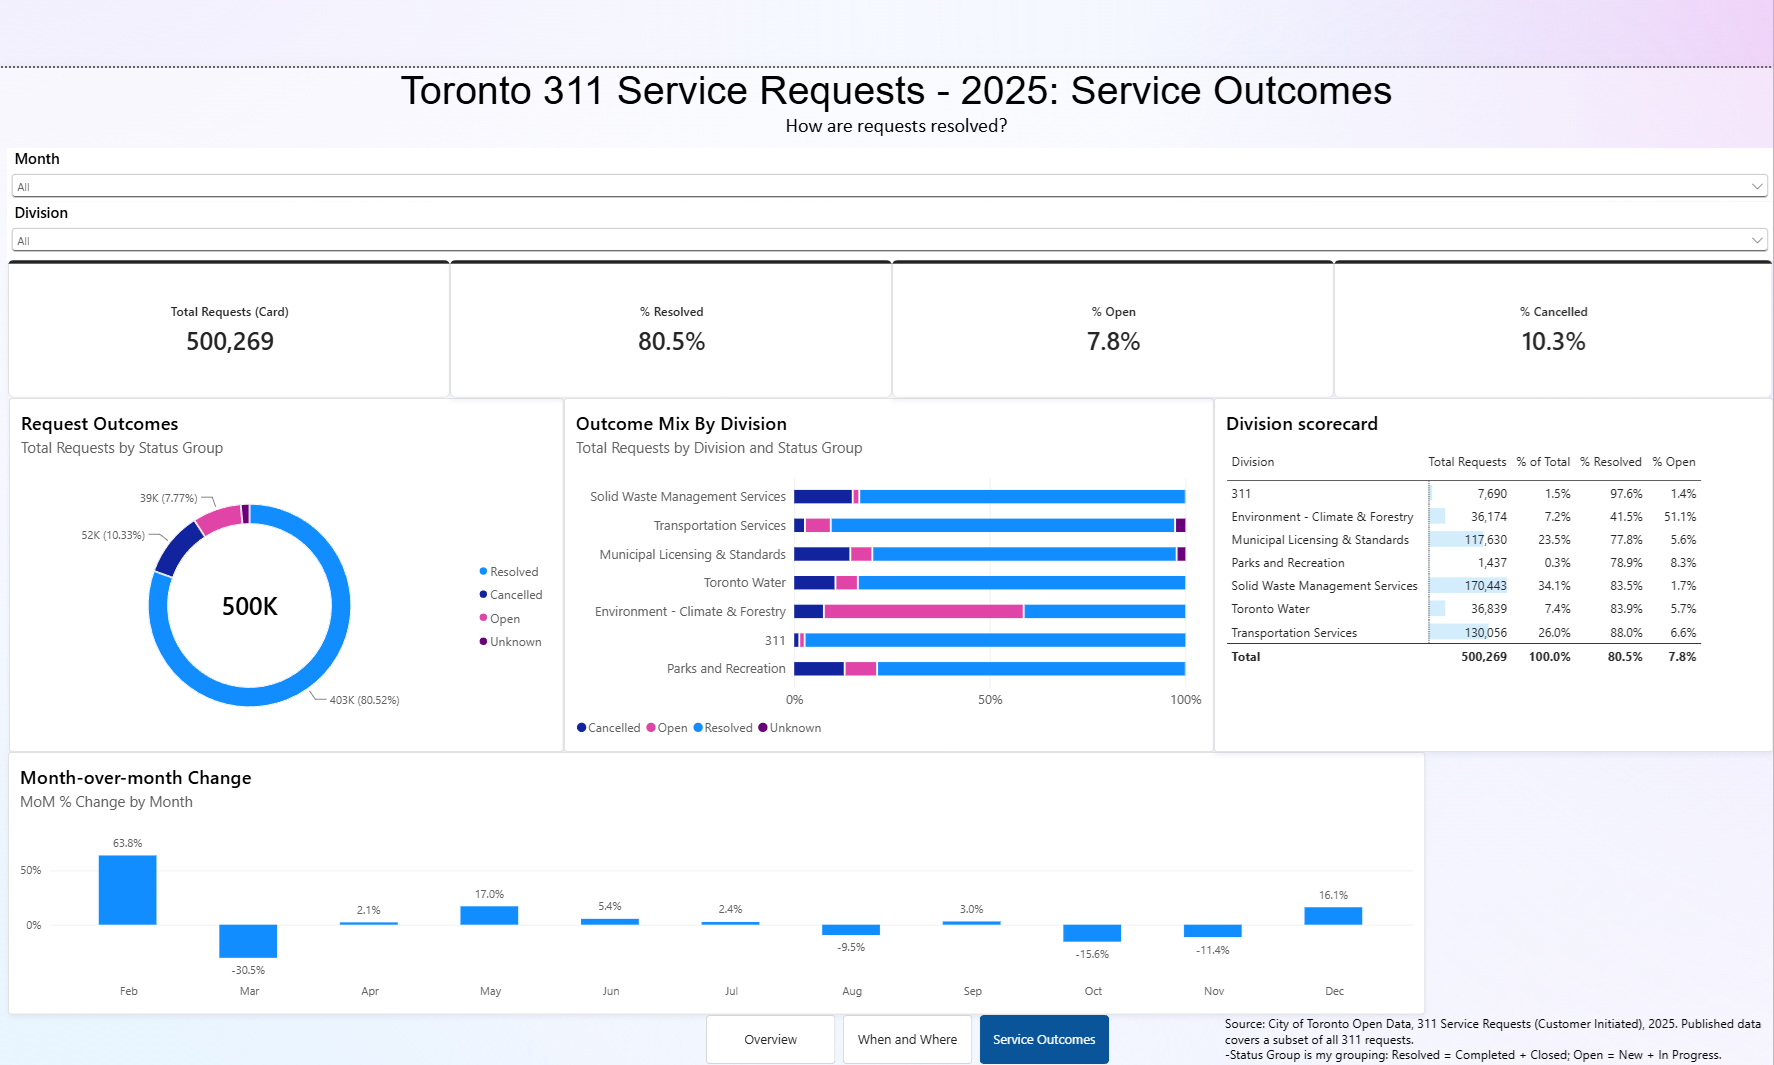

The page's visual inventory and layout, read from the dashboard file:
{"tool":"powerbi","page":{"name":"Service Outcomes","canvas":[1920,1080],"ordinal":2},"visuals":[{"type":"textbox","box":[384,0,1175.8,86.5],"z":0},{"type":"cardVisual","fields":{"Data":["Measures (2).Total Requests (Card)"]},"box":[10.8,207.7,478,149.2],"z":1},{"type":"donutChart","title":"Request Outcomes","fields":{"Category":["311 Request.Status Group"],"Y":["Measures (2).Total Requests"]},"box":[11.9,357,600.3,382.9],"z":2},{"type":"cardVisual","fields":{"Data":["Measures (2).% Resolved"]},"box":[488.9,207.7,478,149.2],"z":3},{"type":"hundredPercentStackedBarChart","title":"Outcome Mix By Division","fields":{"Category":["311 Request.Division"],"Series":["311 Request.Status Group"],"Y":["Measures (2).Total Requests"]},"box":[612.2,357,703.1,382.9],"z":4},{"type":"cardVisual","fields":{"Data":["Measures (2).% Open"]},"box":[967,207.7,478,149.2],"z":5},{"type":"cardVisual","fields":{"Data":["Measures (2).% Cancelled"]},"box":[1445.1,207.7,474.9,149.3],"z":6},{"type":"slicer","fields":{"Values":["Date Table.Month"]},"box":[9.7,86.5,1910.2,57.9],"z":7},{"type":"slicer","fields":{"Values":["311 Request.Division"]},"box":[9.7,144.9,1910.2,62.8],"z":8},{"type":"columnChart","title":"Month-over-month Change","fields":{"Category":["Date Table.Month"],"Y":["Measures (2).MoM % Change"]},"box":[10.8,739.9,1532.8,284.5],"z":9},{"type":"tableEx","title":"Division scorecard","fields":{"Values":["311 Request.Division","Measures (2).Total Requests","Measures (2).% of Total","Measures (2).% Resolved","Measures (2).% Open"]},"box":[1315.3,357,604.7,382.9],"z":10},{"type":"textbox","box":[1327.2,1024.4,592.8,55.2],"z":11},{"type":"pageNavigator","box":[765.8,1024.4,438,53],"z":13}]}

Visuals, with their boxes on the page's 1920x1080 design canvas (x1, y1, x2, y2). These are canvas units, not pixel positions in the 1774x1065 screenshot, which may show the page scaled, cropped or inside an application window:
textbox: locate(384, 0, 1560, 86)
cardVisual - Measures (2).Total Requests (Card): locate(11, 208, 489, 357)
"Request Outcomes" donutChart: locate(12, 357, 612, 740)
cardVisual - Measures (2).% Resolved: locate(489, 208, 967, 357)
"Outcome Mix By Division" hundredPercentStackedBarChart: locate(612, 357, 1315, 740)
cardVisual - Measures (2).% Open: locate(967, 208, 1445, 357)
cardVisual - Measures (2).% Cancelled: locate(1445, 208, 1920, 357)
slicer - Date Table.Month: locate(10, 86, 1920, 144)
slicer - 311 Request.Division: locate(10, 145, 1920, 208)
"Month-over-month Change" columnChart: locate(11, 740, 1544, 1024)
"Division scorecard" tableEx: locate(1315, 357, 1920, 740)
textbox: locate(1327, 1024, 1920, 1080)
pageNavigator: locate(766, 1024, 1204, 1077)
